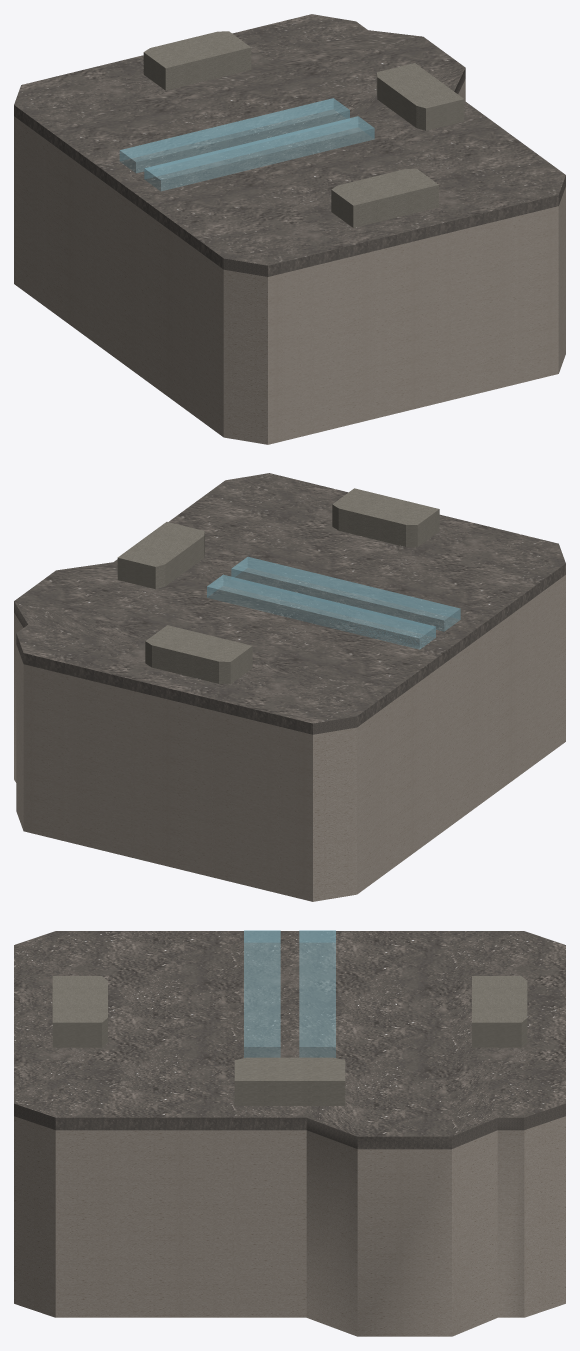
The model's file is Major One.fbx.
The picture shows the model from 3 angles, top to bottom: view 1: azimuth 30°, elevation 25°; view 2: azimuth 150°, elevation 25°; view 3: azimuth 270°, elevation 25°; orthographic projection. The views are drawn at different scales.
Parts seen in each view (by area): view 1: major1Maya_pCube8; view 2: major1Maya_pCube8; view 3: major1Maya_pCube8.
Boxes of the visible parts, box(x1,y1,x2,y2) form: major1Maya_pCube8: box(14, 14, 565, 444); major1Maya_pCube8: box(14, 473, 565, 901); major1Maya_pCube8: box(14, 930, 565, 1336).
Size of the model in its own units: 134 by 68.58 by 152.
4 materials, 3 textured.
